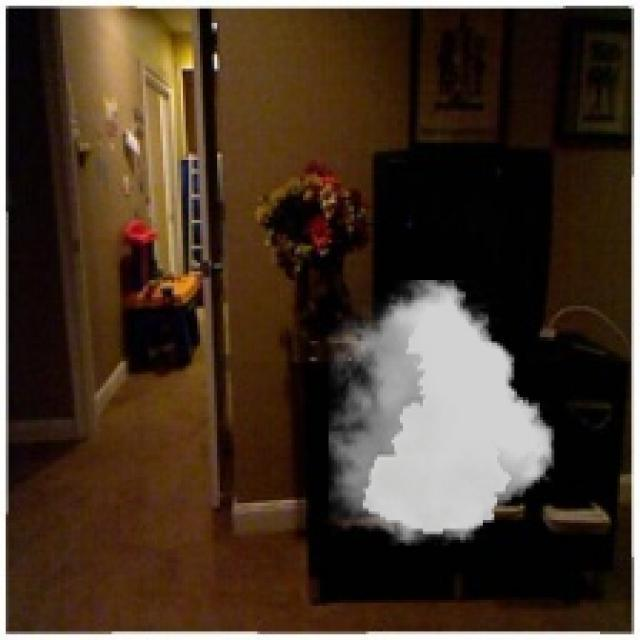Smoke: (328, 280, 554, 546)
